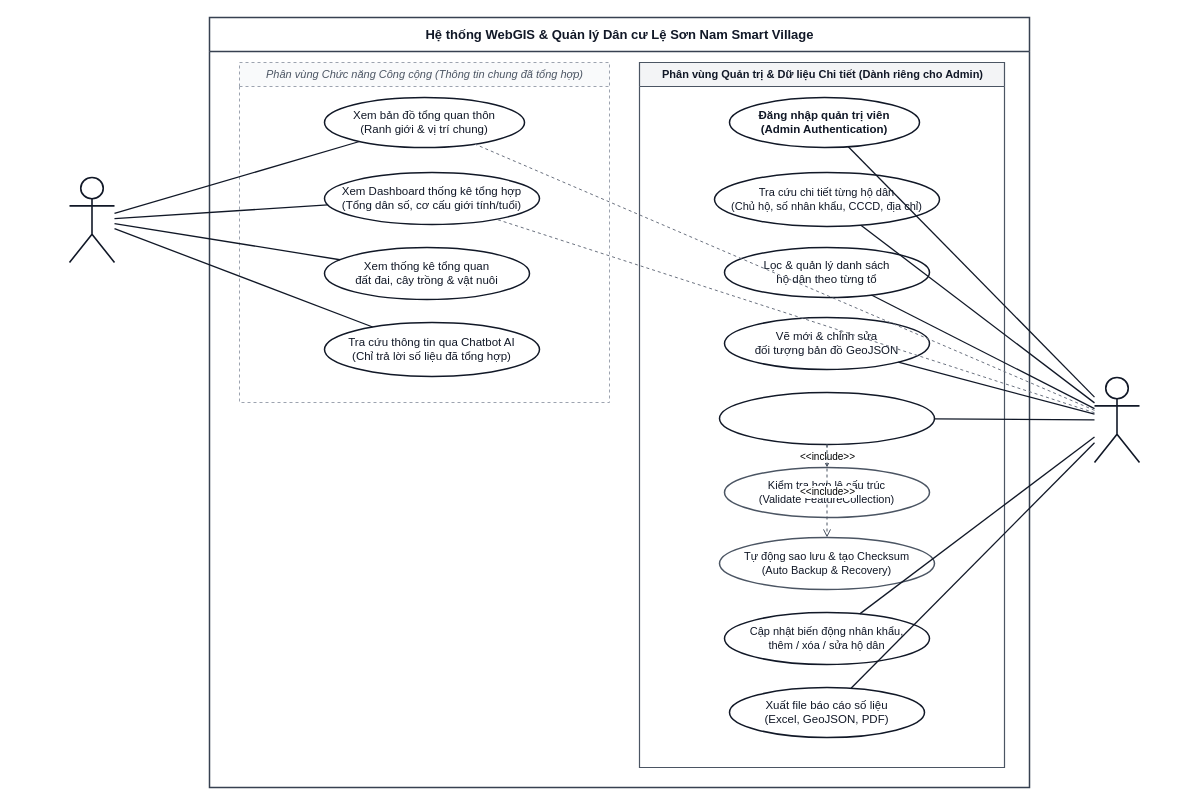
Image size: 1198x806. Some labels were removed from this diagram. Each missing label, with the centre of its shape:
Cán bộ quản lý (Admin / Trưởng thôn) [Toàn quyền quản trị]: the point at 1116,419
Lưu bản đồ số an toàn (Atomic Write POST /api/save): the point at 826,418
Người dùng (User / Dân cư / Khách) [Chỉ xem thông tin chung]: the point at 91,219
